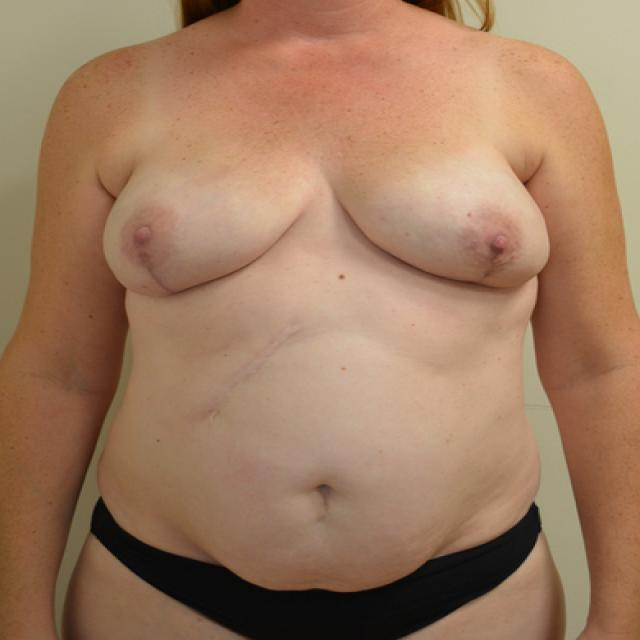Seno herido: (323, 146, 560, 308), (95, 146, 315, 312)
